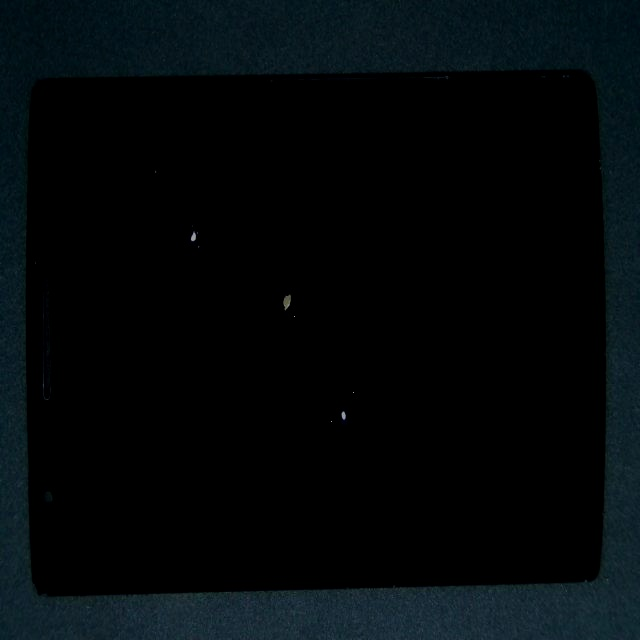stain: (192, 160, 506, 594), (164, 117, 419, 423), (106, 86, 277, 341)
